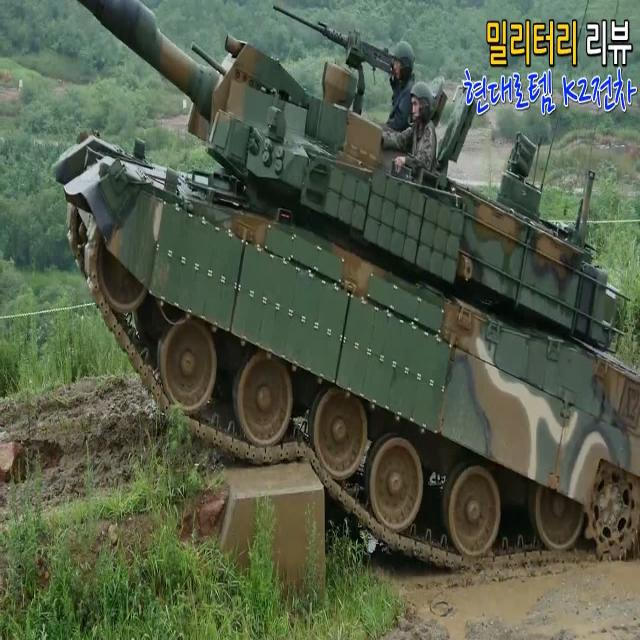korea tank: (52, 1, 640, 567)
